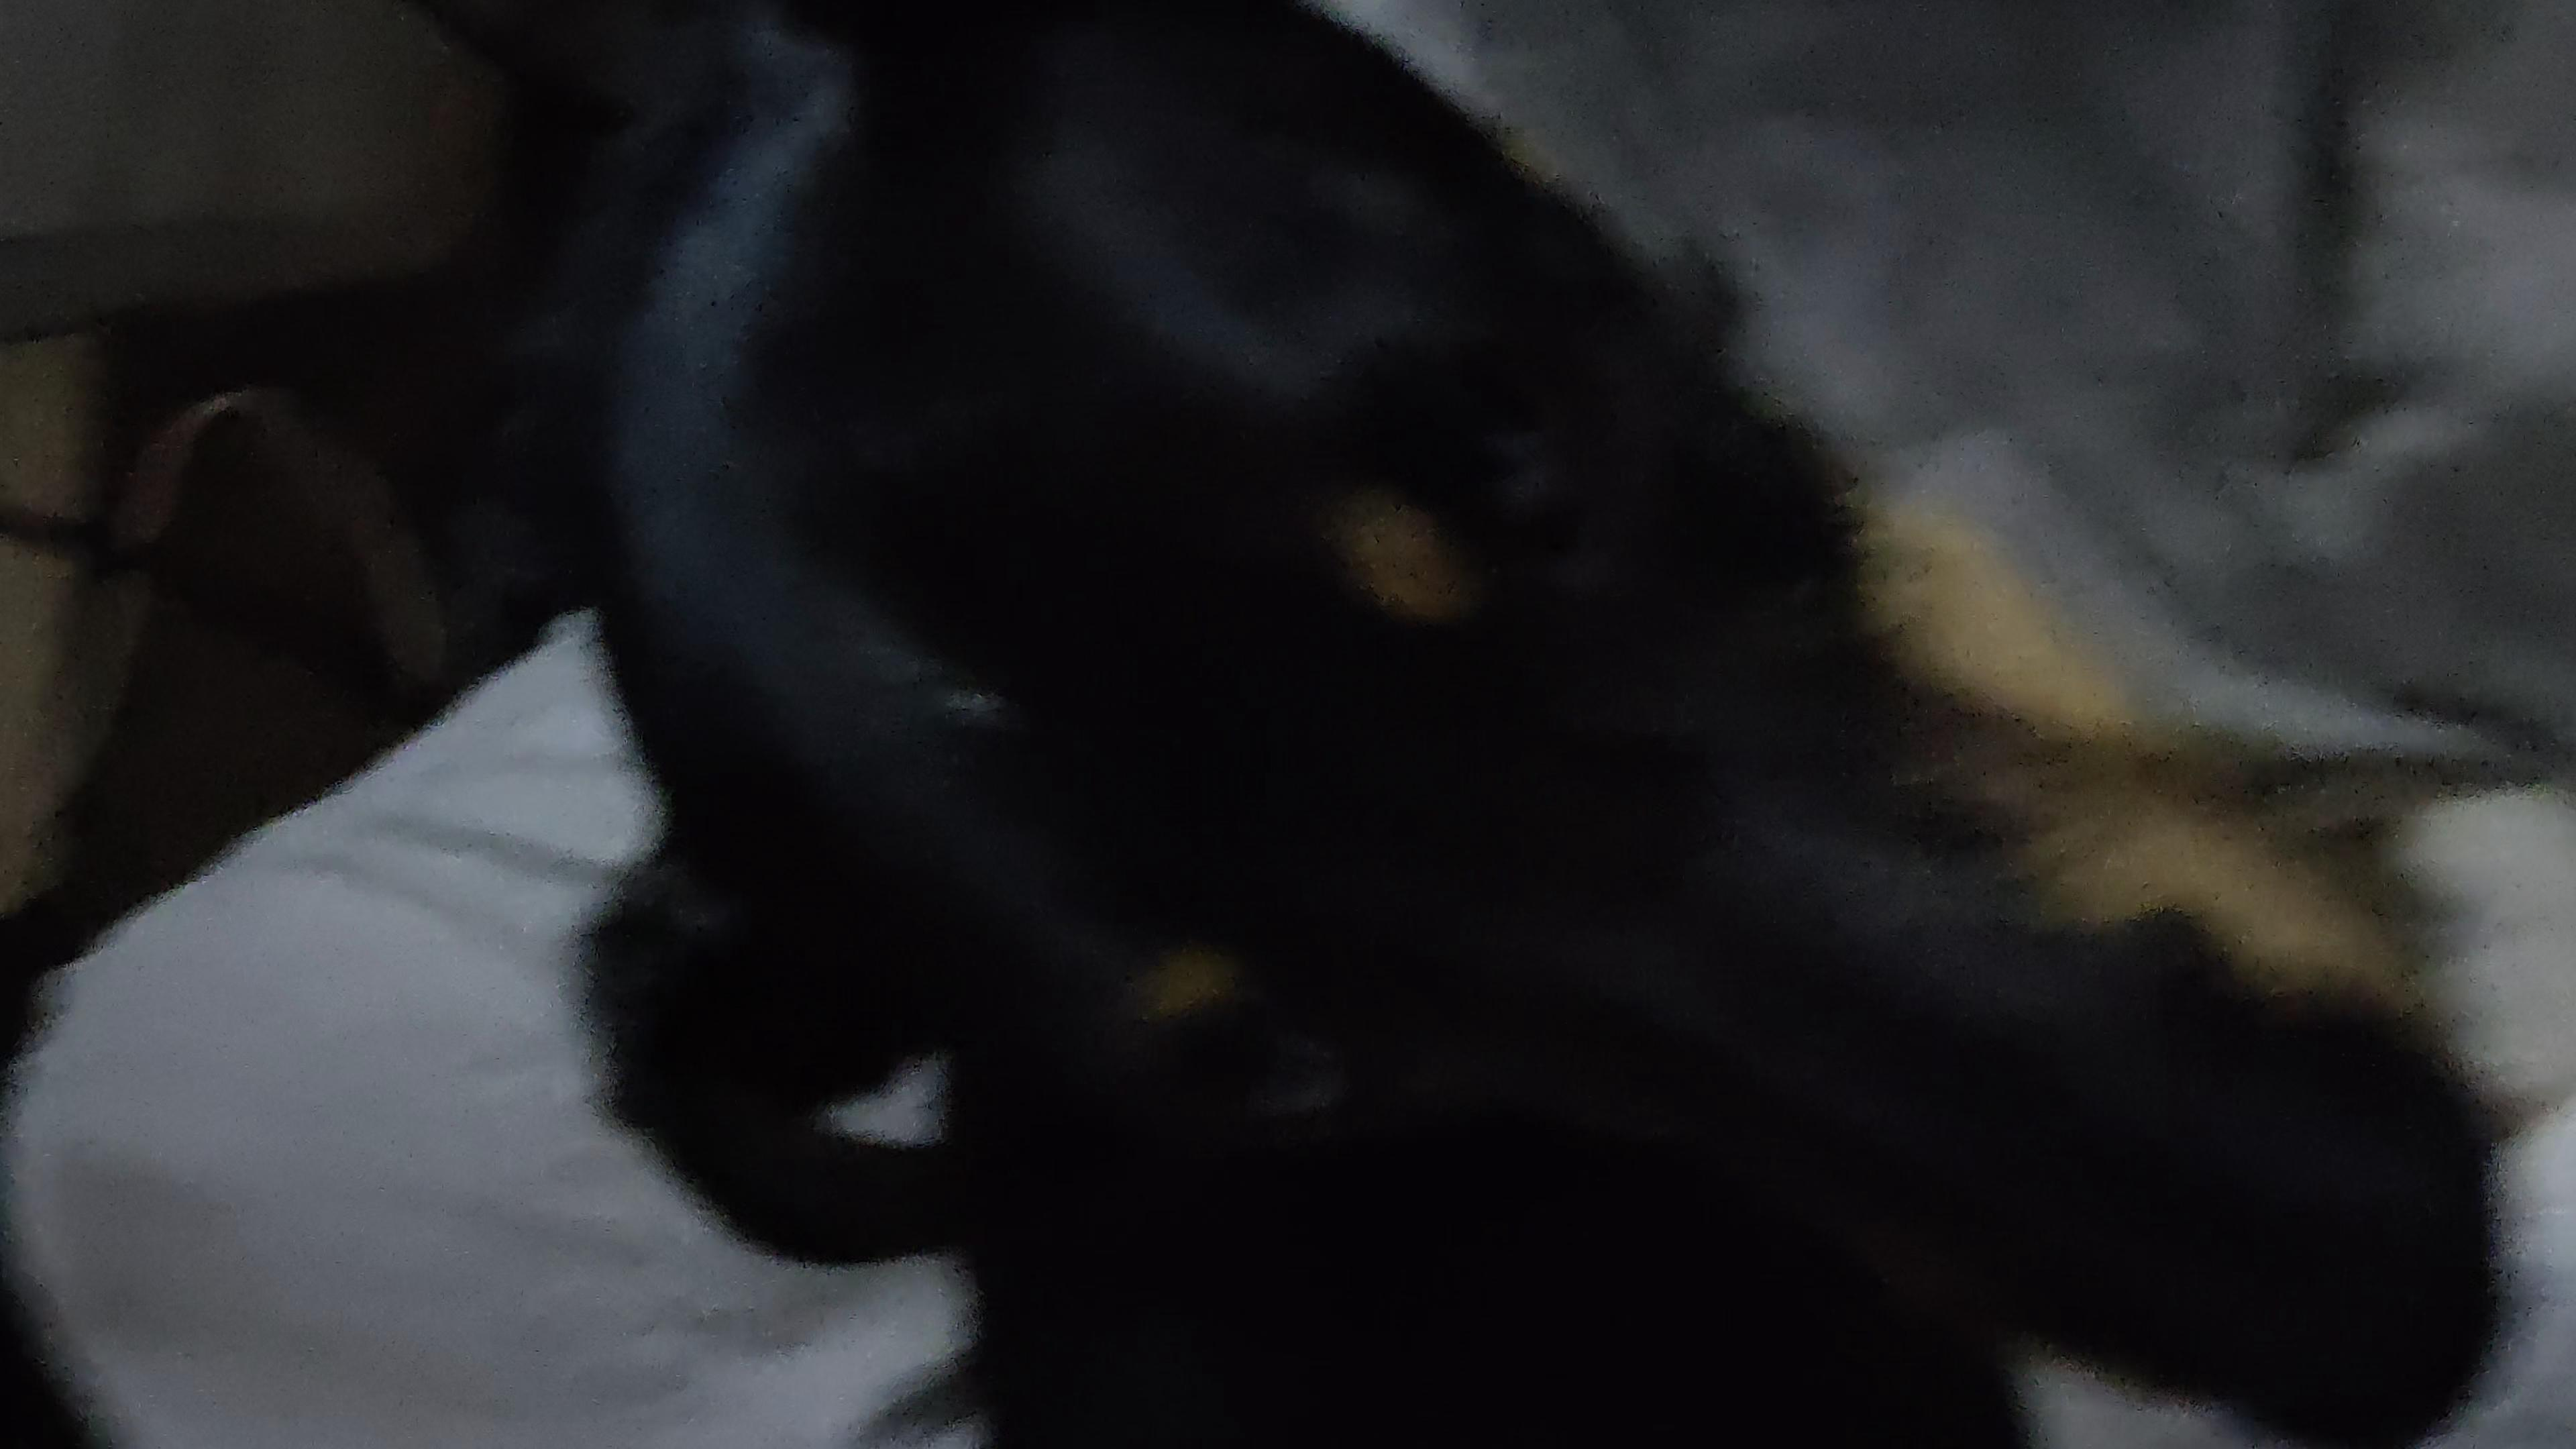Dog: (428, 0, 2576, 1449)
